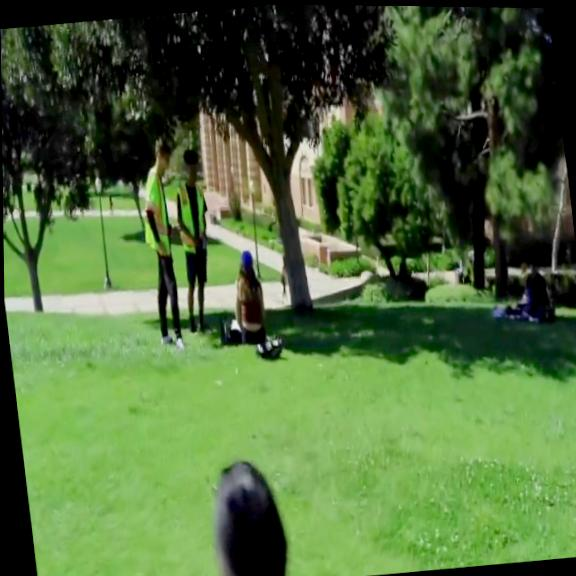safety_vest: (135, 165, 174, 257), (174, 181, 209, 254)
